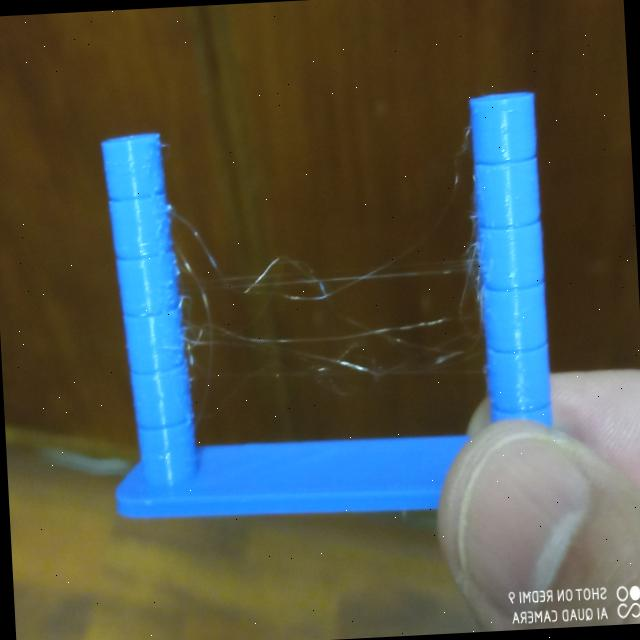stringing: (175, 209, 488, 403)
